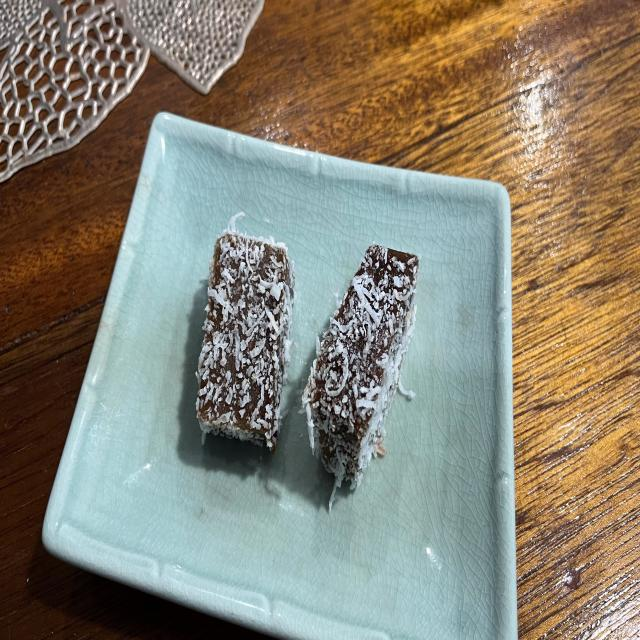kaswi: (302, 244, 419, 509), (196, 216, 295, 451)
